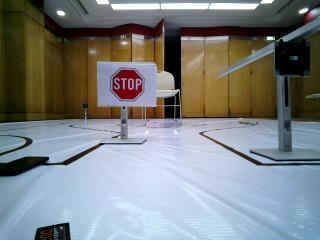stop: (102, 65, 157, 103)
